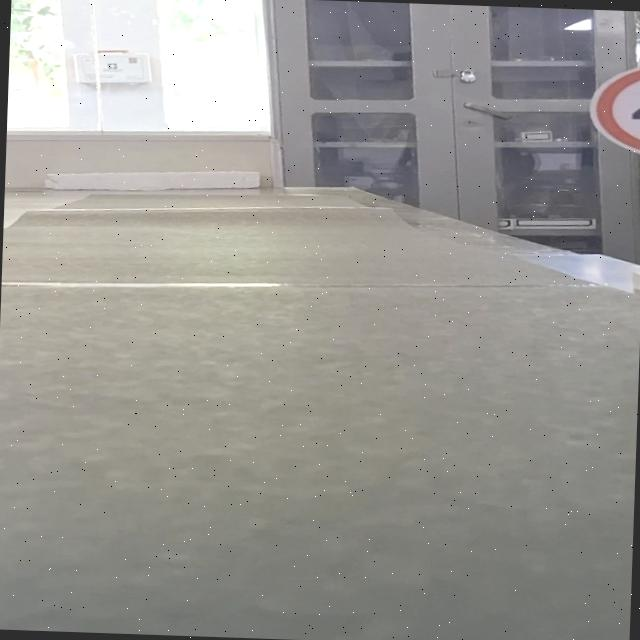Speed40: (584, 56, 640, 159)
